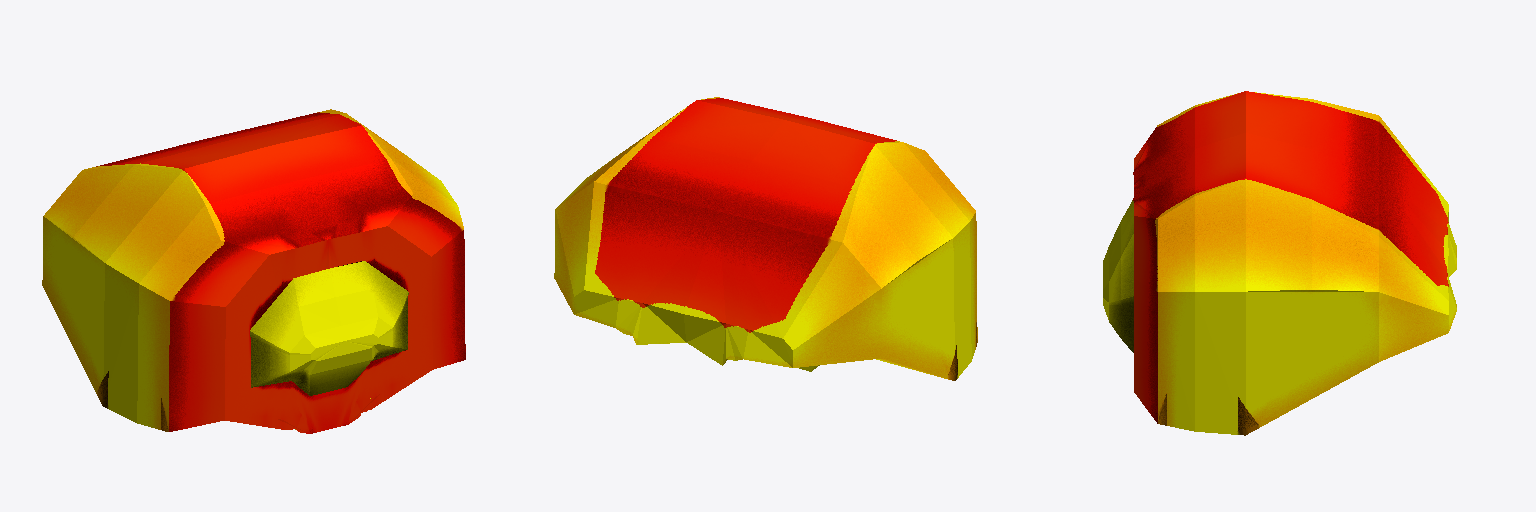
3 renders of one model, left to right at view 1: azimuth 30°, elevation 25°; view 2: azimuth 150°, elevation 25°; view 3: azimuth 270°, elevation 25°, orthographic.
Visible parts, largest first — view 1: Plane; view 2: Plane; view 3: Plane.
Boxes of the visible parts, <box> form: Plane: <box>42,109,465,433</box>; Plane: <box>554,97,977,380</box>; Plane: <box>1103,91,1456,435</box>.
Size of the model in its own units: 2.95 by 2.05 by 2.66.
3 materials, 1 textured.